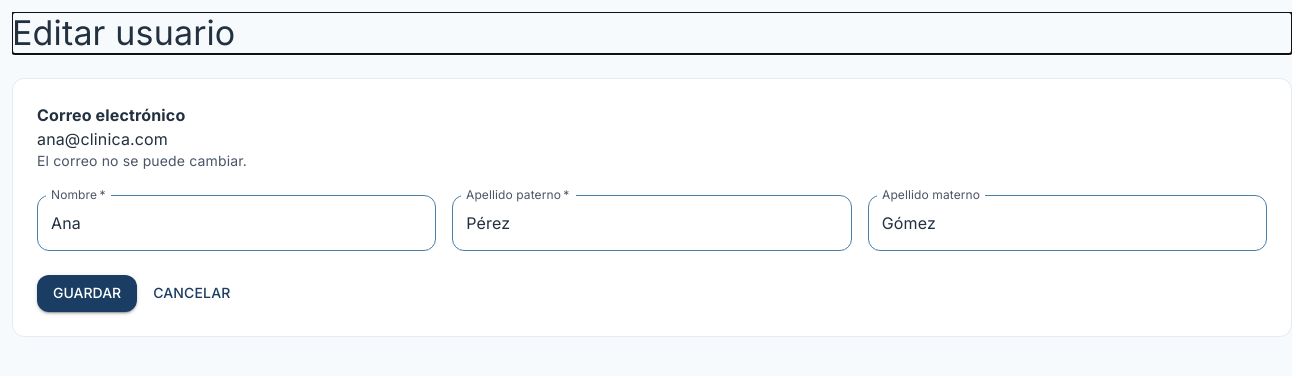
it: UserEditPage: the form › does not save, tells which values are missing and puts the focus on the first one
Clear the field labelled "Nombre *" at (237, 223), box [37, 195, 436, 251]
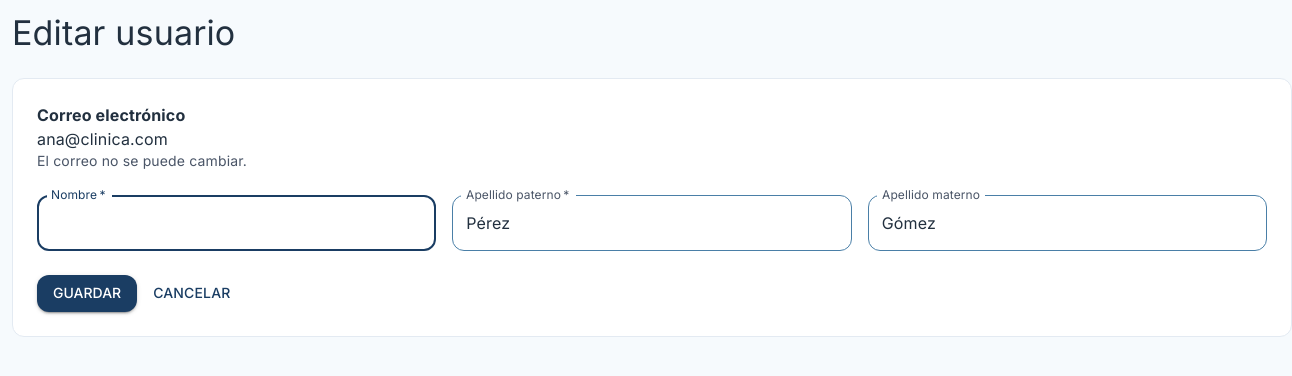
Clear the field labelled "Apellido paterno *" at (652, 223), box [452, 195, 852, 251]
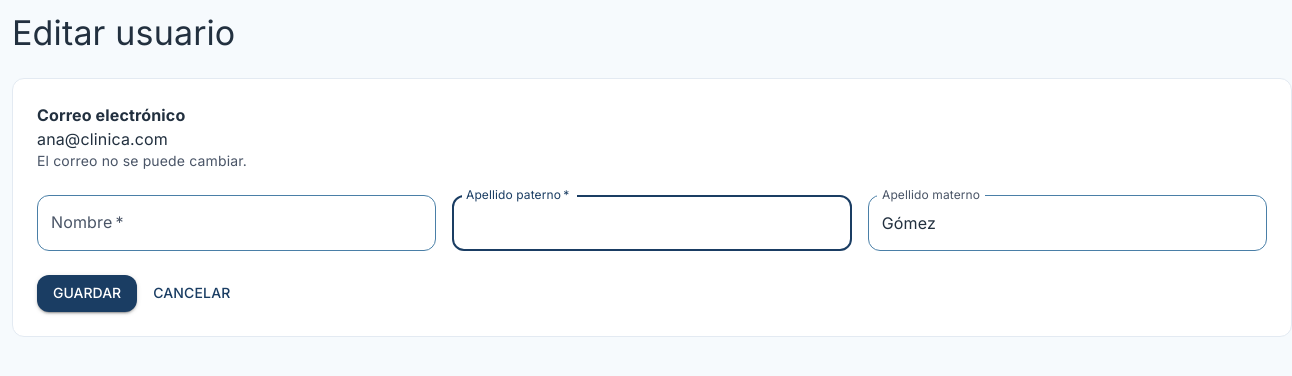
Click the button "Guardar".
click(87, 293)  # box [37, 275, 137, 312]
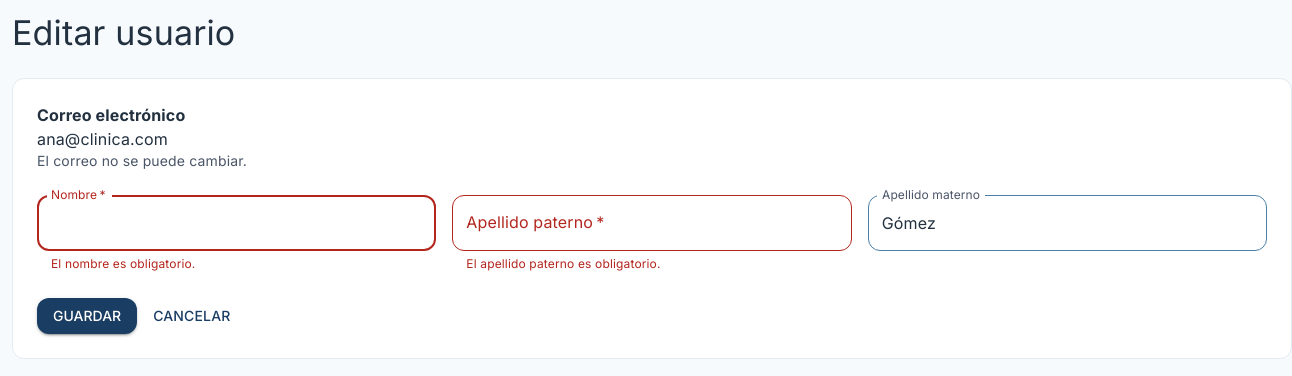
Now the text "El nombre es obligatorio." is shown, box [51, 256, 195, 271]
Now the text "El apellido paterno es obligatorio." is shown, box [466, 256, 660, 271]
